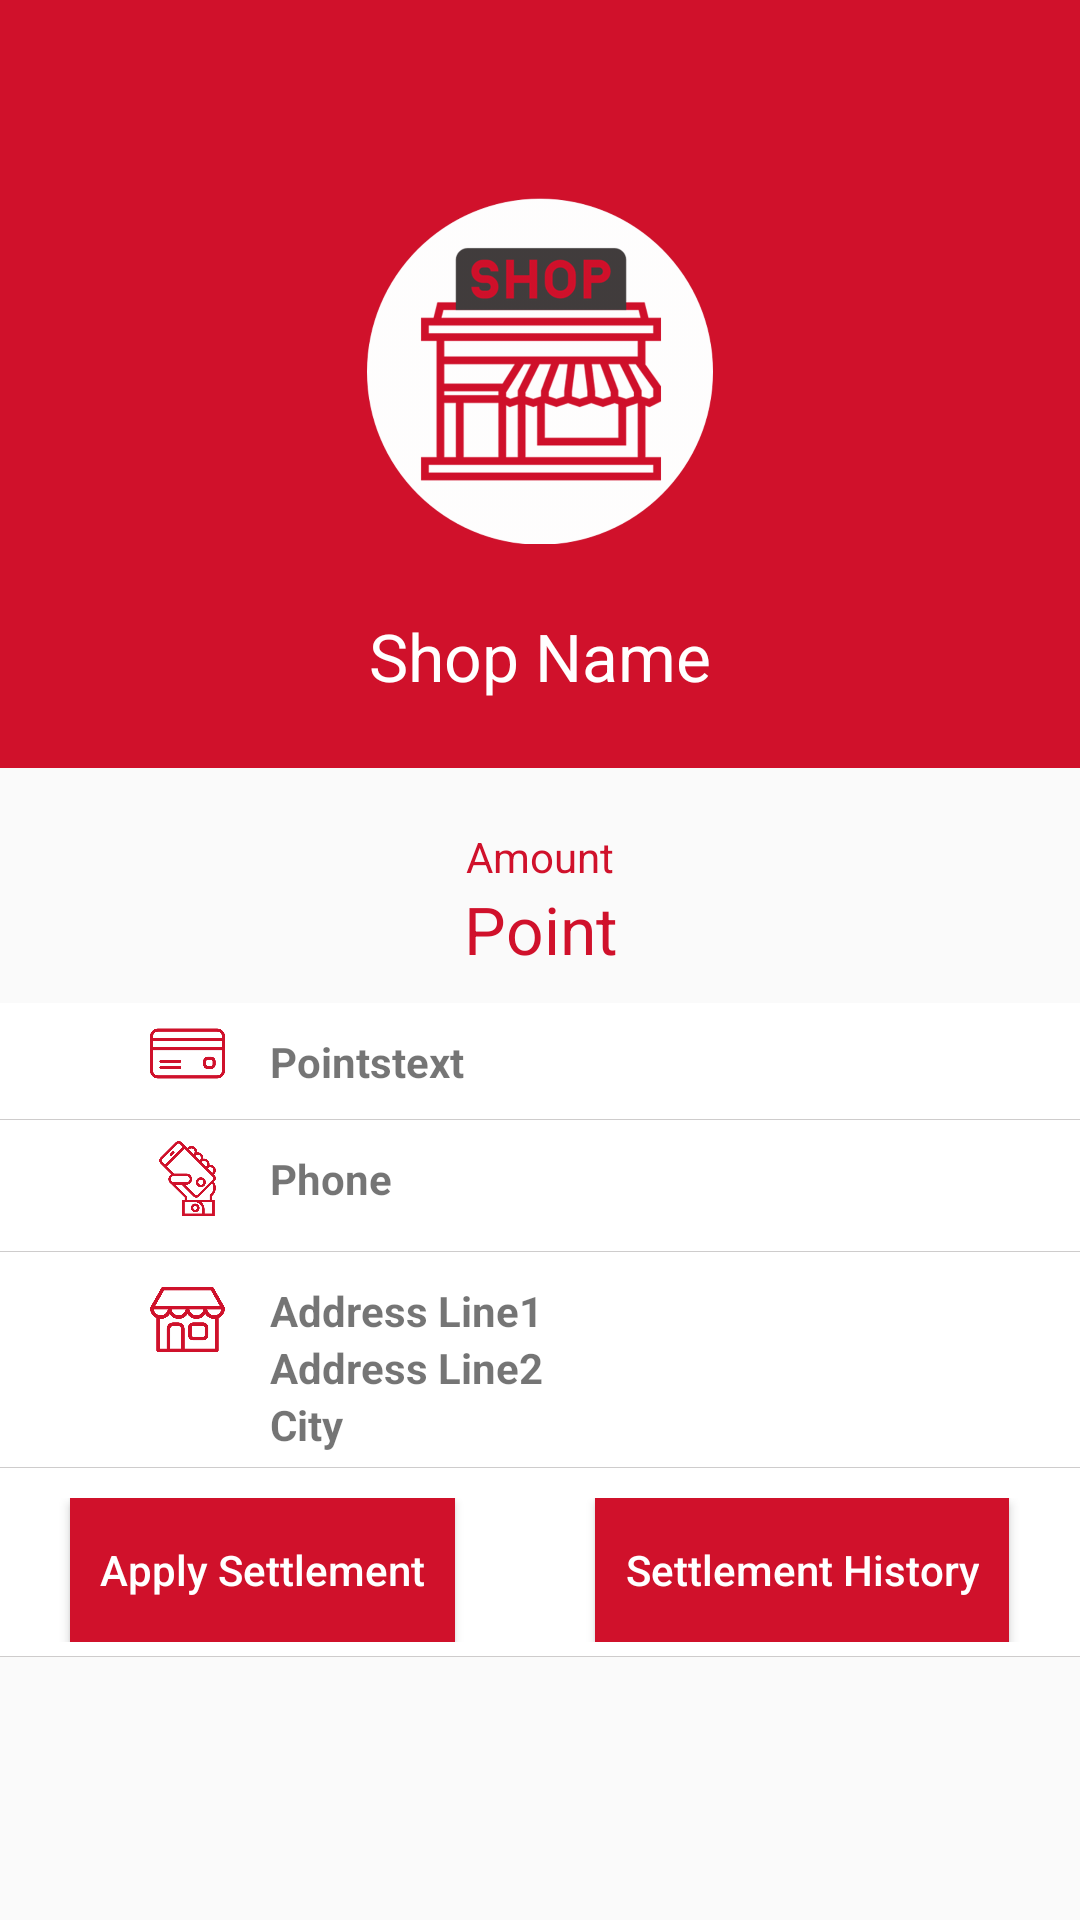

Named icons in this screenshot (1080 × 1920) and their centers, (x=x, y=y):
credit card: (x=187, y=1053)
